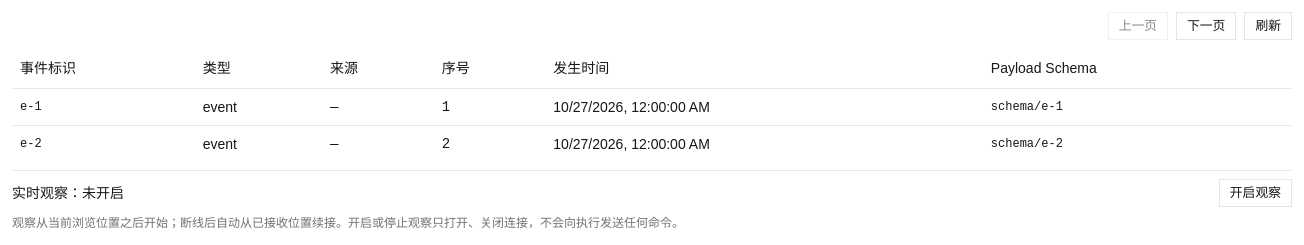
Scenario: RunEventsPanel live observation › reports an idle accepted connection as connected
Expected: the text "e-1" is shown, [12,88,195,125]
Click the button with test id "live-start": (1255, 192) [1219,178,1292,206]
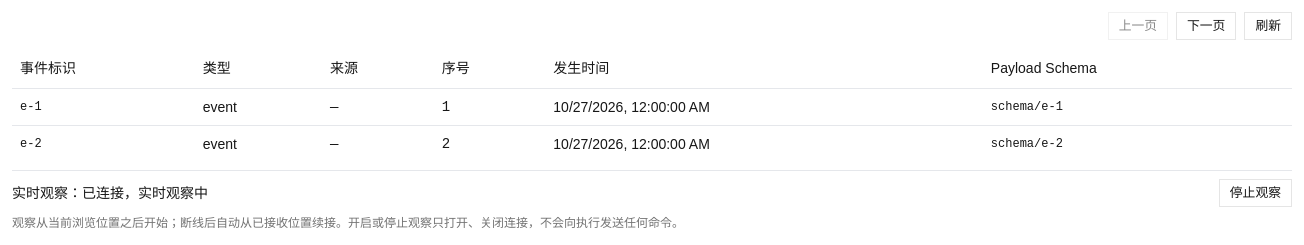
Result: the text with test id "live-status" shows "已连接" at [82,184,208,200]
